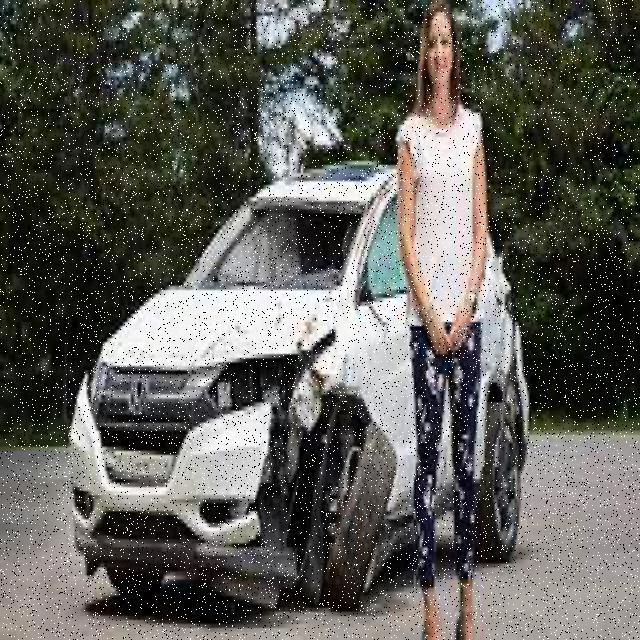front-bumper-dent: (59, 350, 344, 596)
